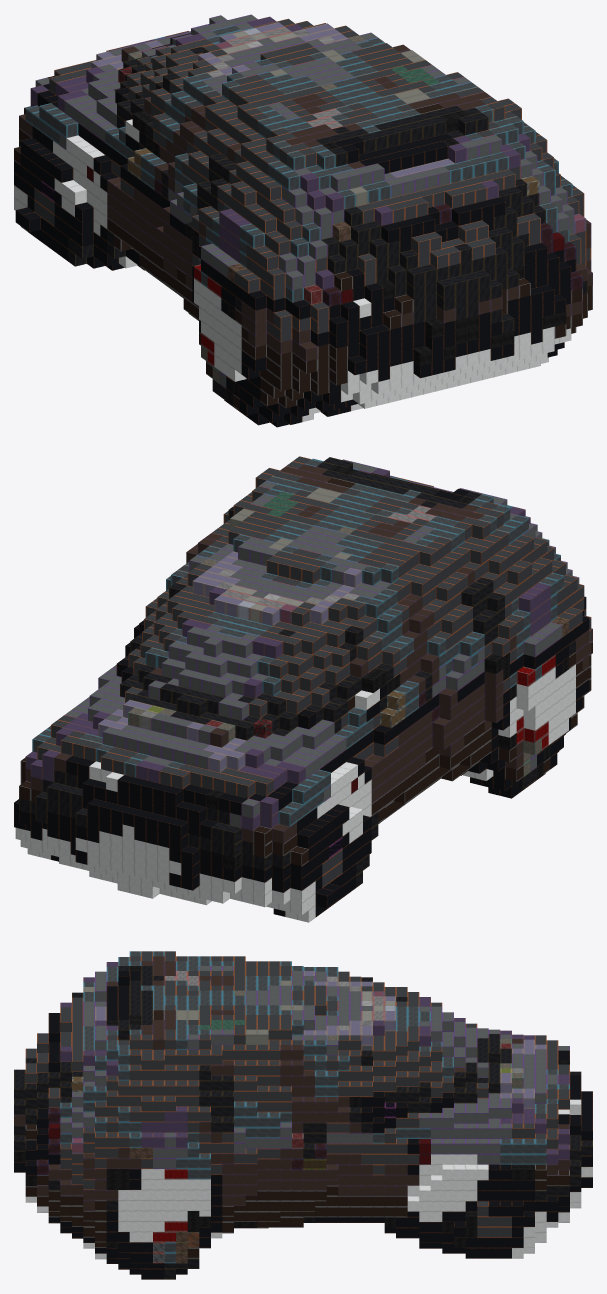
The picture shows the model from 3 angles, top to bottom: view 1: azimuth 30°, elevation 25°; view 2: azimuth 150°, elevation 25°; view 3: azimuth 270°, elevation 25°; orthographic projection. The views are drawn at different scales.
Bounding box in the file's own units: 28 × 21 × 50.
